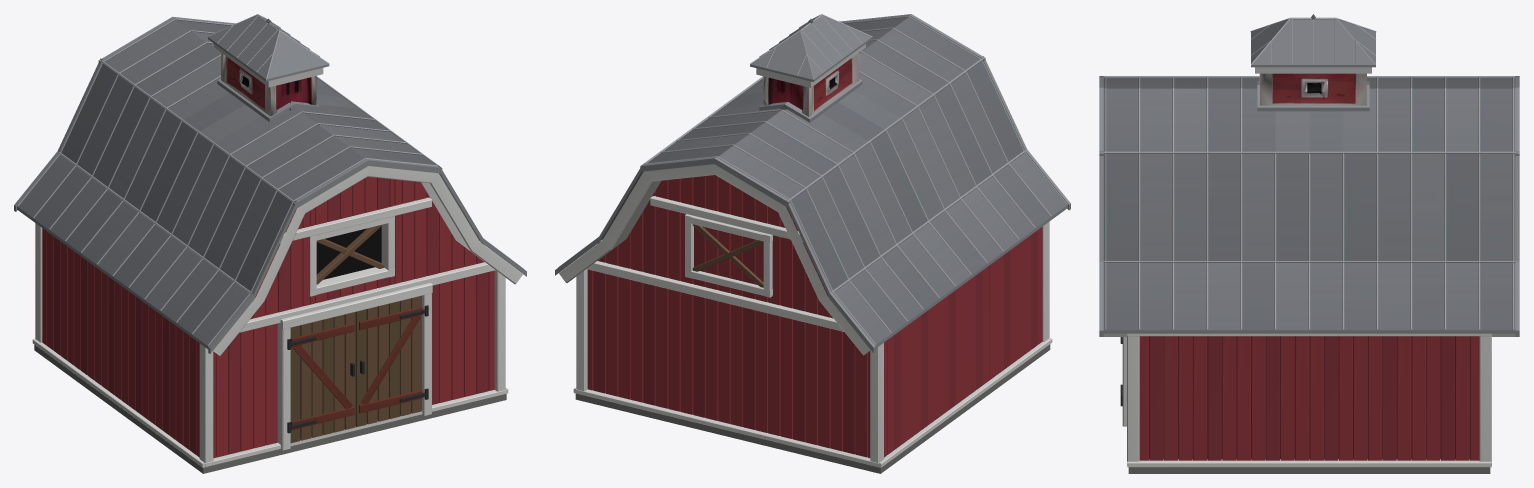
File: barn.glb
3 renders of one model, left to right at view 1: azimuth 30°, elevation 25°; view 2: azimuth 150°, elevation 25°; view 3: azimuth 270°, elevation 25°, orthographic. The views are drawn at different scales.
Visible parts, largest first — view 1: BarnBody; view 2: BarnBody; view 3: BarnBody.
Part boxes in pixels (x1,y1,x2,y2): BarnBody: (14,14,526,473); BarnBody: (555,14,1070,473); BarnBody: (1099,14,1519,473).
Size of the model in its own units: 9.33 by 10 by 10.
Materials: 1 (1 with a texture image).
